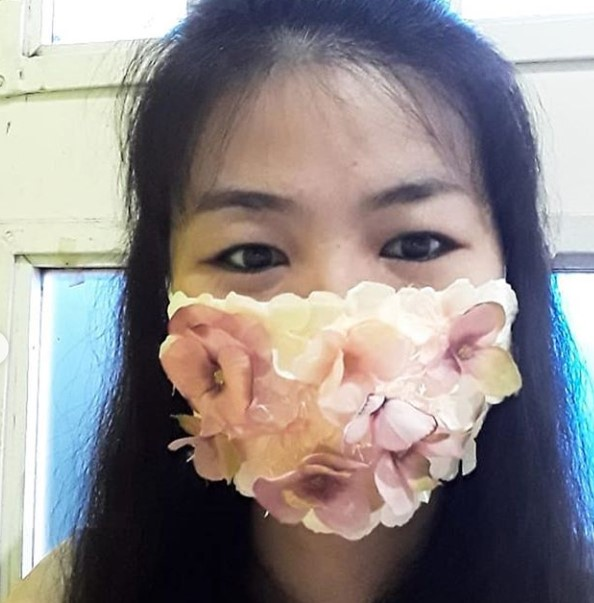face_with_mask: (133, 0, 539, 545)
